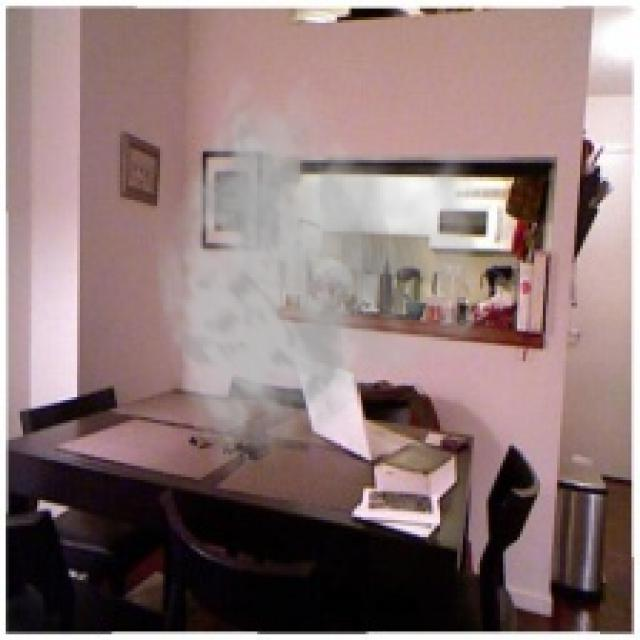smoke: (154, 66, 509, 477)
